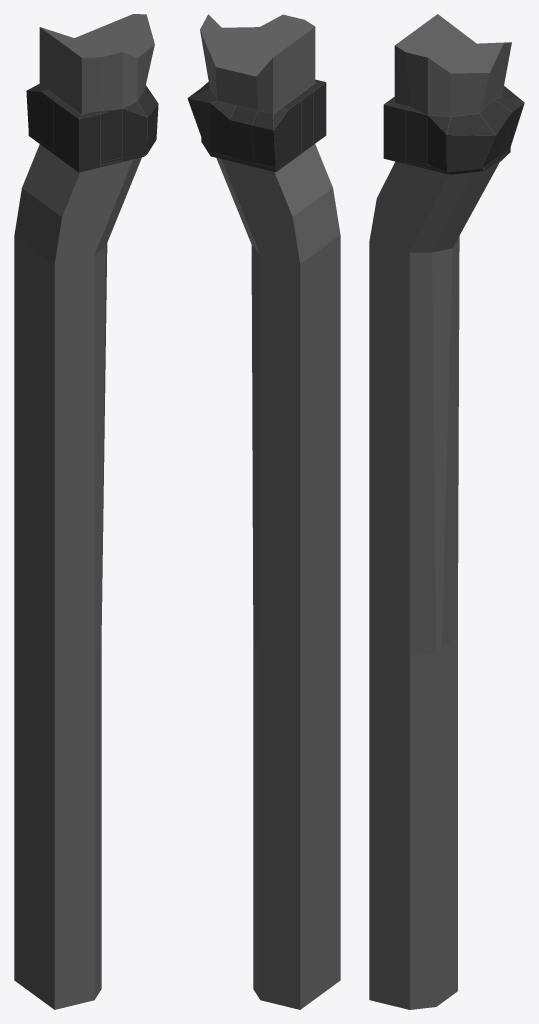
The model's file is SidePillar2.fbx.
3 renders of one model, left to right at view 1: azimuth 30°, elevation 25°; view 2: azimuth 150°, elevation 25°; view 3: azimuth 330°, elevation 25°, orthographic.
Visible parts, largest first — view 1: Cylinder.037; view 2: Cylinder.037; view 3: Cylinder.037.
Boxes of the visible parts, box(x1,y1,x2,y2) form: Cylinder.037: box(14, 14, 158, 1009); Cylinder.037: box(187, 14, 340, 1009); Cylinder.037: box(369, 14, 524, 1009).
Size of the model in its own units: 262 by 2090 by 222.
